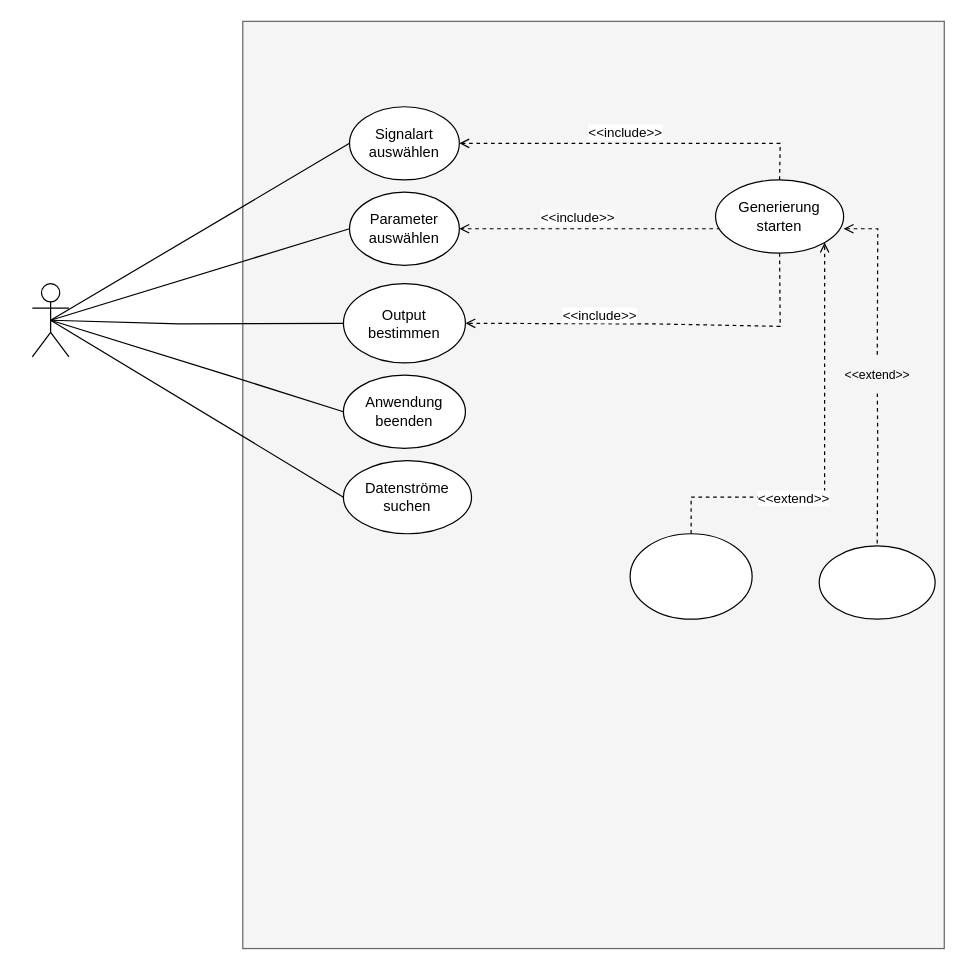
This 966x970 diagram has some shape labels left out. The centre of each missing label's shape, as x and y in pixels:
"Benutzer" goes at pixel 50 319.
"Generierung beenden" goes at pixel 876 582.
"Generierung pausieren" goes at pixel 690 576.
